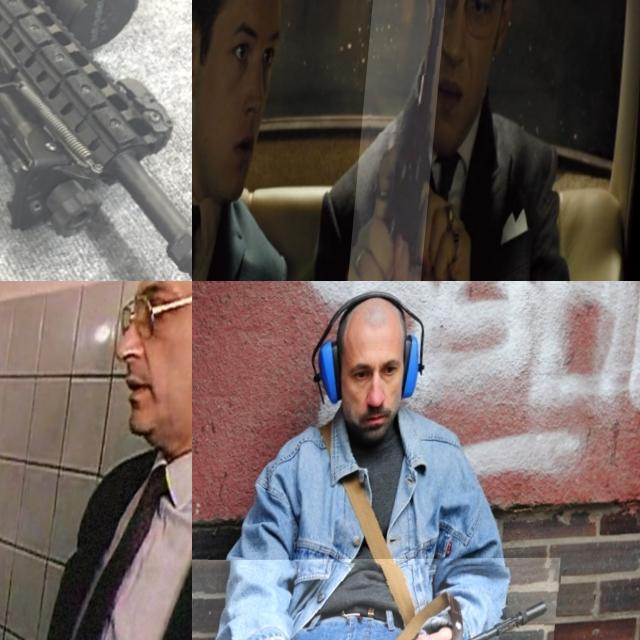gun-knife-thesis - v11 Yolov5 augmented: (0, 0, 192, 281), (192, 558, 566, 640), (350, 0, 451, 281)
